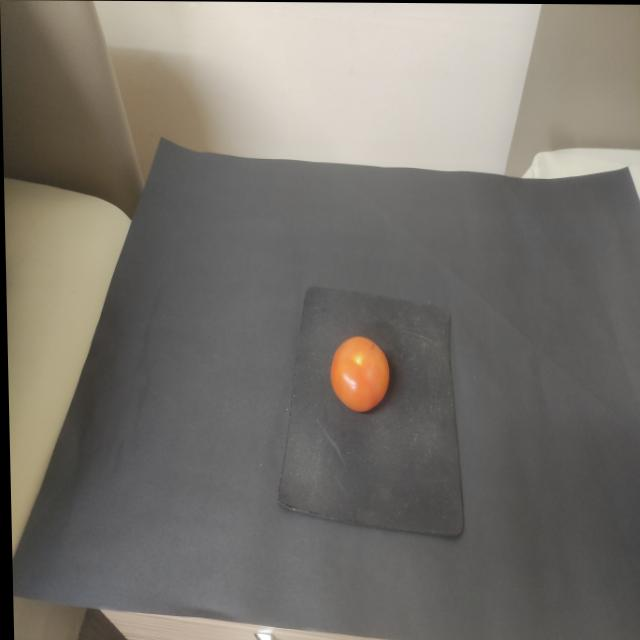sari: (320, 325, 402, 427)
